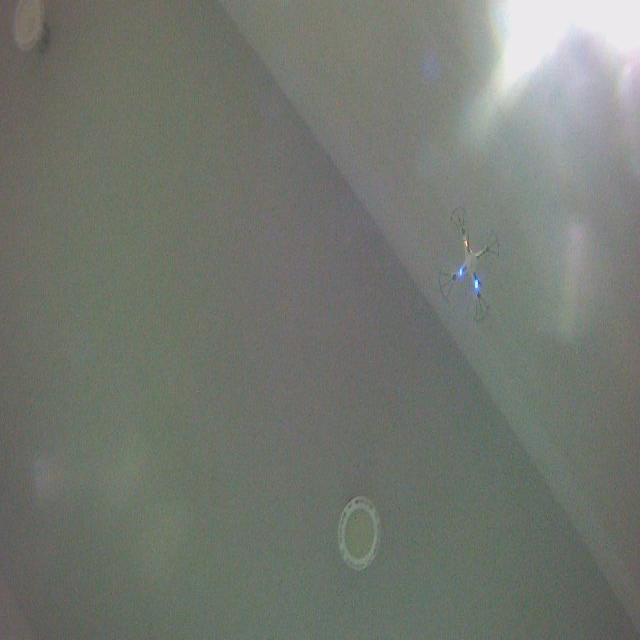drone: (437, 204, 502, 326)
